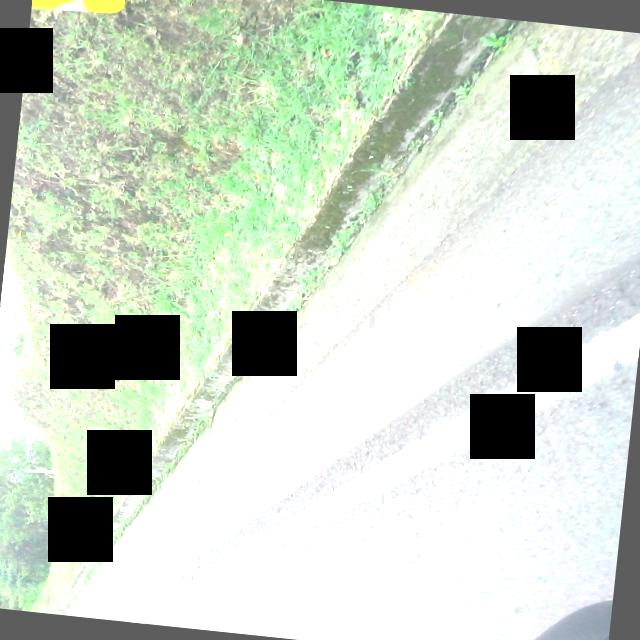DITCH: (55, 0, 640, 640), (53, 0, 640, 635)
